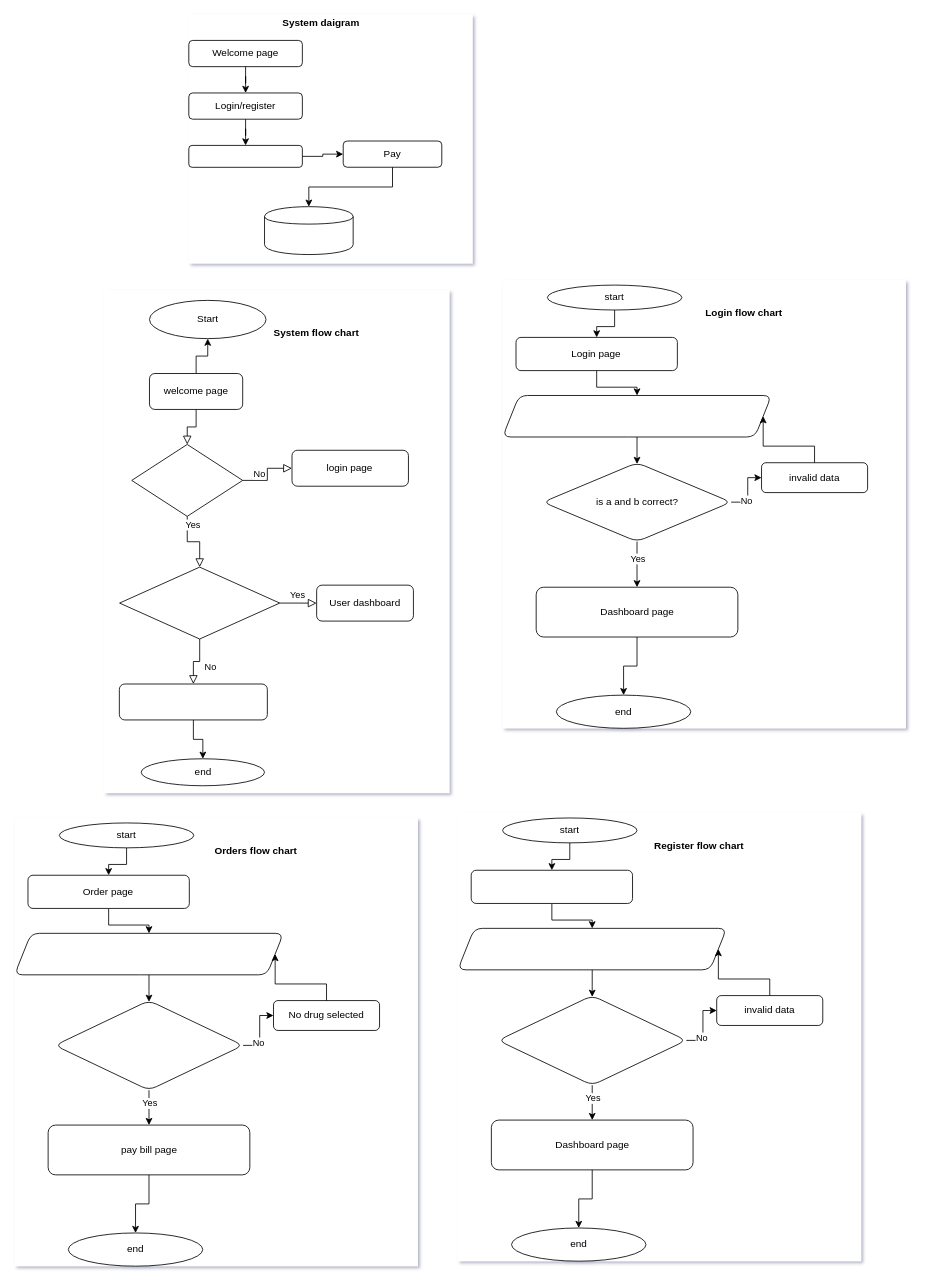
Image size: 925x1286. Some labels were removed from this diagram. Here are the shapes that lost their labels. From the top down, the centre of each, then its label:
(x=245, y=156): Book drugs
(x=308, y=230): store orders
(x=636, y=416): a = username, b = password
(x=187, y=480): is user logged in?
(x=199, y=602): is user role==admin?
(x=193, y=701): User Dasboard
(x=551, y=886): Register page
(x=148, y=954): Select drugs
(x=592, y=949): data = [a = username,b = email, c = password, d = confirm password]
(x=148, y=1045): is drug select?
(x=591, y=1040): does array of data contain invalid input?
